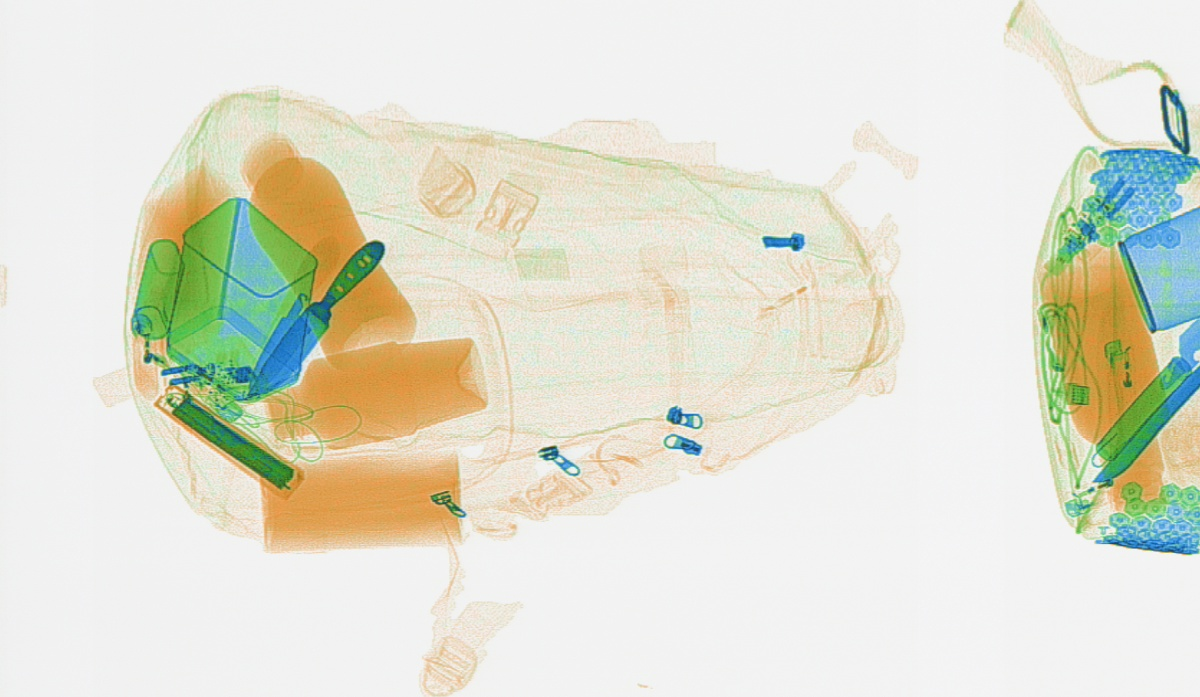knife: (243, 235, 386, 399), (1091, 310, 1197, 469), (244, 232, 340, 397), (1091, 358, 1197, 484)
lighter: (157, 356, 243, 423), (1062, 469, 1167, 517), (1102, 334, 1139, 441), (1104, 337, 1141, 438), (130, 310, 161, 402)
